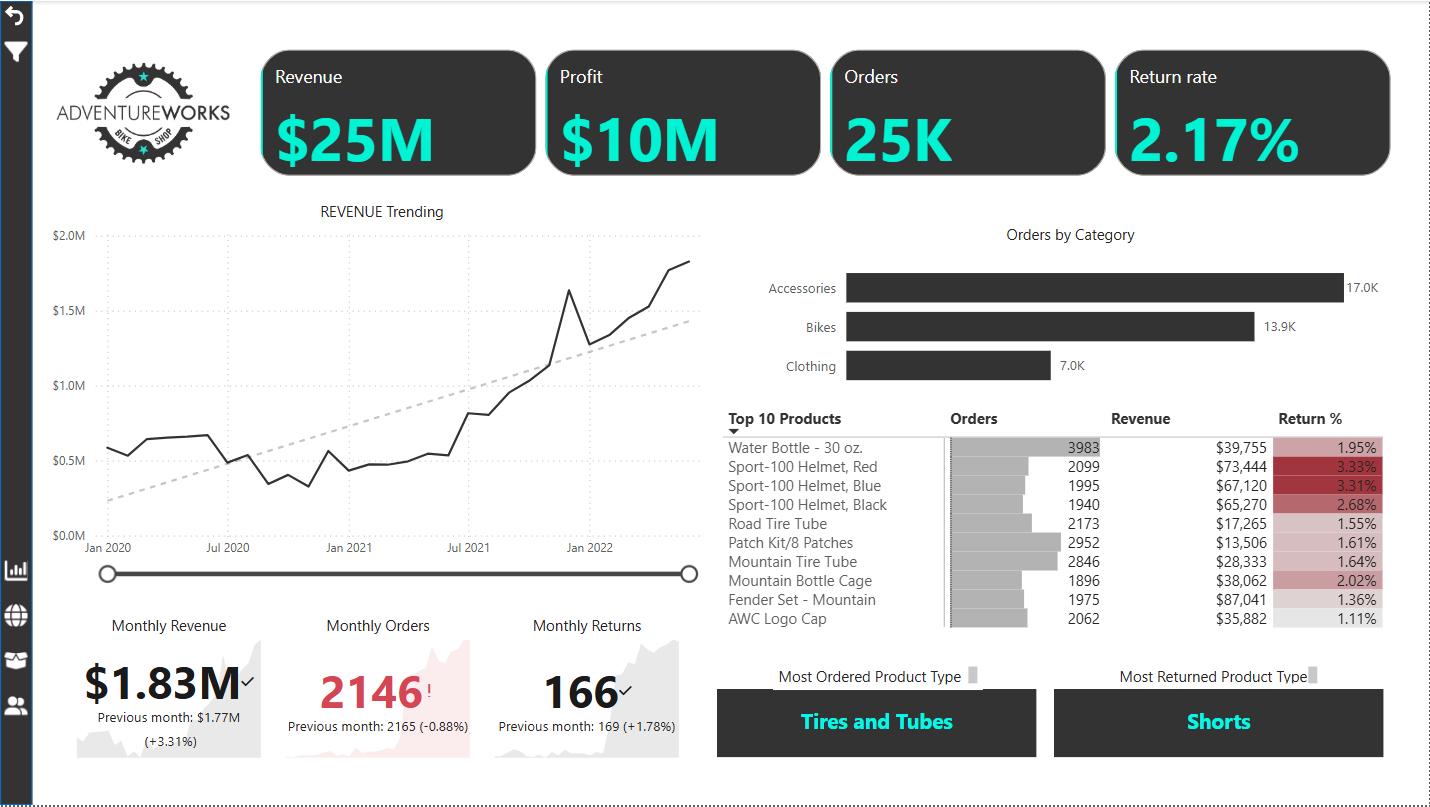

What the dashboard file says about the page in this screenshot:
{"tool":"powerbi","page":{"name":"Ecex Dashboard","canvas":[1280,720],"ordinal":0},"visuals":[{"type":"image","title":"AW Logo","box":[29.1,0,200,200],"z":0},{"type":"actionButton","box":[0,489.9,28.7,40.3],"z":0,"group":"g2"},{"type":"kpi","title":"Monthly Revenue","fields":{"Indicator":["Measure Table.Total revenue"],"TrendLine":["Calendar Lookup.Start of Month"],"Goal":["Measure Table.Previous month revenue"]},"box":[63.6,550,175.5,132.7],"z":0,"group":"g1"},{"type":"shape","title":"Left Nav Background","box":[0,0,29.1,720],"z":1000},{"type":"actionButton","box":[0,530.2,28.7,40.3],"z":1000,"group":"g2"},{"type":"kpi","title":"Monthly Orders","fields":{"TrendLine":["Calendar Lookup.Start of Month"],"Indicator":["Measure Table.Total orders"],"Goal":["Measure Table.Previous month orders"]},"box":[250.9,550,175.5,132.7],"z":1000,"group":"g1"},{"type":"lineChart","title":"REVENUE Trending","fields":{"Y":["Measure Table.Total revenue"],"Category":["Calendar Lookup.Start of Month"]},"box":[40.9,179.1,601.8,344.5],"z":2000},{"type":"kpi","title":"Monthly Returns","fields":{"TrendLine":["Calendar Lookup.Start of Month"],"Indicator":["Measure Table.Total returns"],"Goal":["Measure Table.Previous month returns"]},"box":[438.1,550,175.5,132.7],"z":2000,"group":"g1"},{"type":"actionButton","box":[0,570.5,28.7,40.3],"z":2000,"group":"g2"},{"type":"group","id":"g1","title":"KPIs","box":[63.6,550,550,132.7],"z":3000},{"type":"actionButton","box":[0,610.8,28.7,40.3],"z":3000,"group":"g2"},{"type":"clusteredBarChart","title":"Orders by Category","fields":{"Category":["Product Categories Lookup.CategoryName"],"Y":["Measure Table.Total orders"]},"box":[678.3,199.6,561.4,160.3],"z":4000},{"type":"pivotTable","fields":{"Rows":["Product Lookup.ProductName"],"Values":["Measure Table.Total orders","Measure Table.Total revenue","Measure Table.Return rate"]},"box":[642.5,360.2,602.6,209.5],"z":5000},{"type":"card","fields":{"Values":["Min(Product Subcategories Lookup.SubcategoryName)"]},"box":[642.5,616.6,286.3,60.9],"z":6000},{"type":"textbox","box":[692.4,590.6,187.6,25.9],"z":7000},{"type":"card","fields":{"Values":["Min(Product Subcategories Lookup.SubcategoryName)"]},"box":[943.8,616.6,295.3,60.9],"z":8000},{"type":"textbox","box":[997.6,591,187.2,25.1],"z":9000},{"type":"actionButton","box":[0,0,28.9,25.9],"z":10000},{"type":"group","id":"g2","title":"Navigation buttons","box":[0,489.9,28.7,161.2],"z":11000},{"type":"actionButton","box":[0,25.1,28.7,40.3],"z":12000},{"type":"cardVisual","fields":{"Data":["Measure Table.Total revenue","Measure Table.Total profit","Measure Table.Total orders","Measure Table.Return rate"]},"box":[228.4,38.5,1022.7,123.6],"z":14000}]}

Visuals, with their boxes on the page's 1280x720 design canvas (x1, y1, x2, y2). These are canvas units, not pixel positions in the 1430x807 screenshot, which may show the page scaled, cropped or inside an application window:
"AW Logo" image: Rect(29, 0, 229, 200)
actionButton: Rect(0, 490, 29, 530)
"Monthly Revenue" kpi: Rect(64, 550, 239, 683)
"Left Nav Background" shape: Rect(0, 0, 29, 720)
actionButton: Rect(0, 530, 29, 570)
"Monthly Orders" kpi: Rect(251, 550, 426, 683)
"REVENUE Trending" lineChart: Rect(41, 179, 643, 524)
"Monthly Returns" kpi: Rect(438, 550, 614, 683)
actionButton: Rect(0, 570, 29, 611)
"KPIs" group: Rect(64, 550, 614, 683)
actionButton: Rect(0, 611, 29, 651)
"Orders by Category" clusteredBarChart: Rect(678, 200, 1240, 360)
pivotTable - Product Lookup.ProductName x Measure Table.Total orders: Rect(642, 360, 1245, 570)
card - Min(Product Subcategories Lookup.SubcategoryName): Rect(642, 617, 929, 678)
textbox: Rect(692, 591, 880, 616)
card - Min(Product Subcategories Lookup.SubcategoryName): Rect(944, 617, 1239, 678)
textbox: Rect(998, 591, 1185, 616)
actionButton: Rect(0, 0, 29, 26)
"Navigation buttons" group: Rect(0, 490, 29, 651)
actionButton: Rect(0, 25, 29, 65)
cardVisual - Measure Table.Total revenue x Measure Table.Total profit: Rect(228, 38, 1251, 162)
